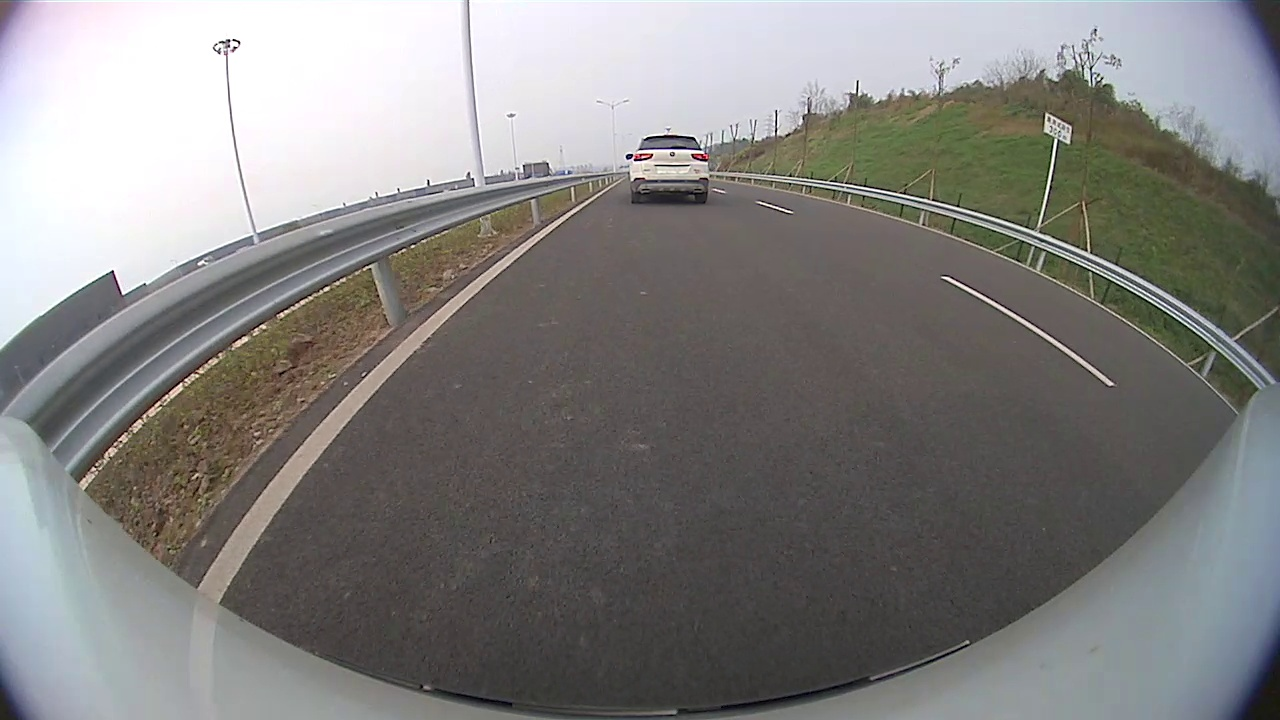car: (625, 133, 711, 204)
